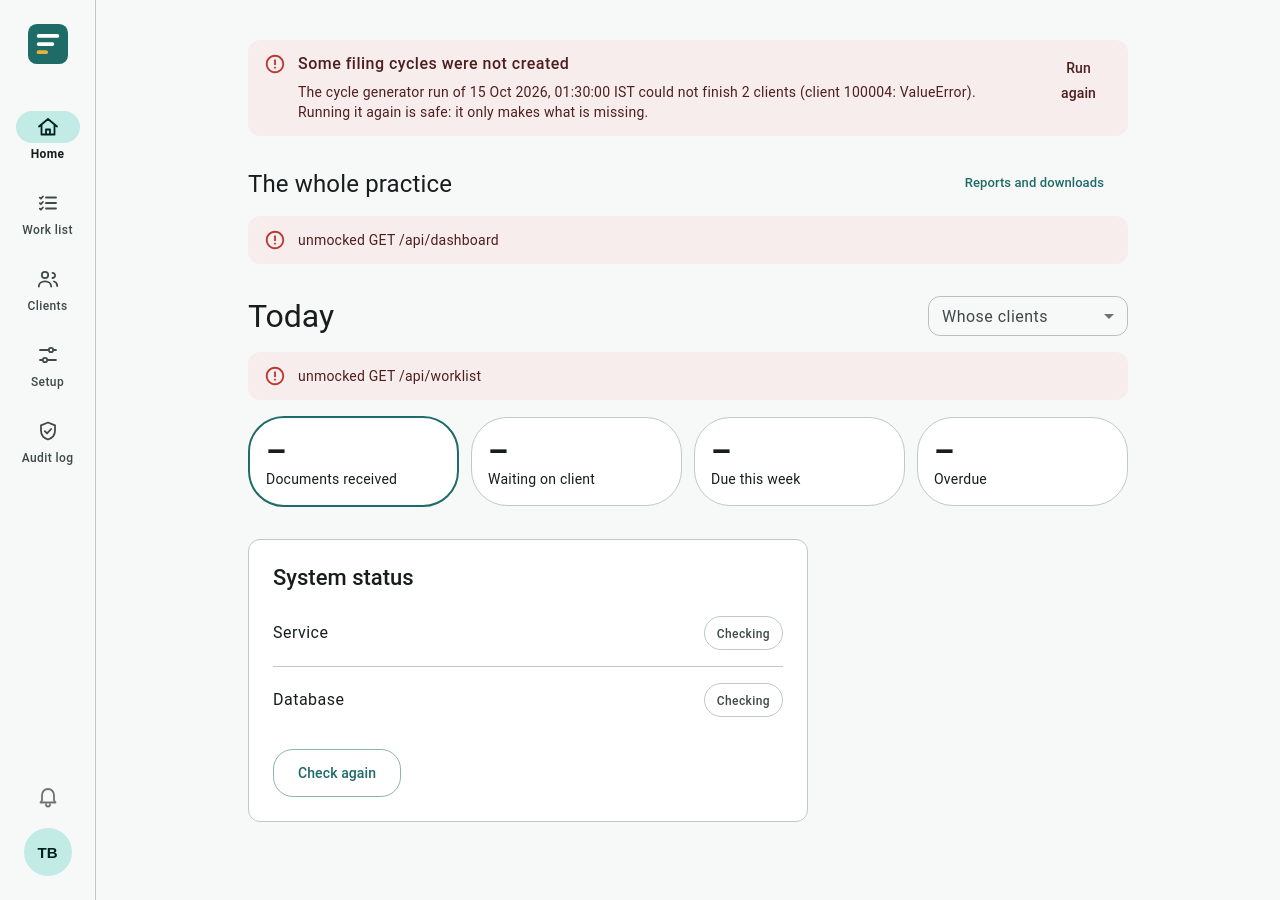
Cycle generator alarm › says so if the run fails again
Click the button "Run again".
click(1078, 80)  # box [1037,50,1120,111]
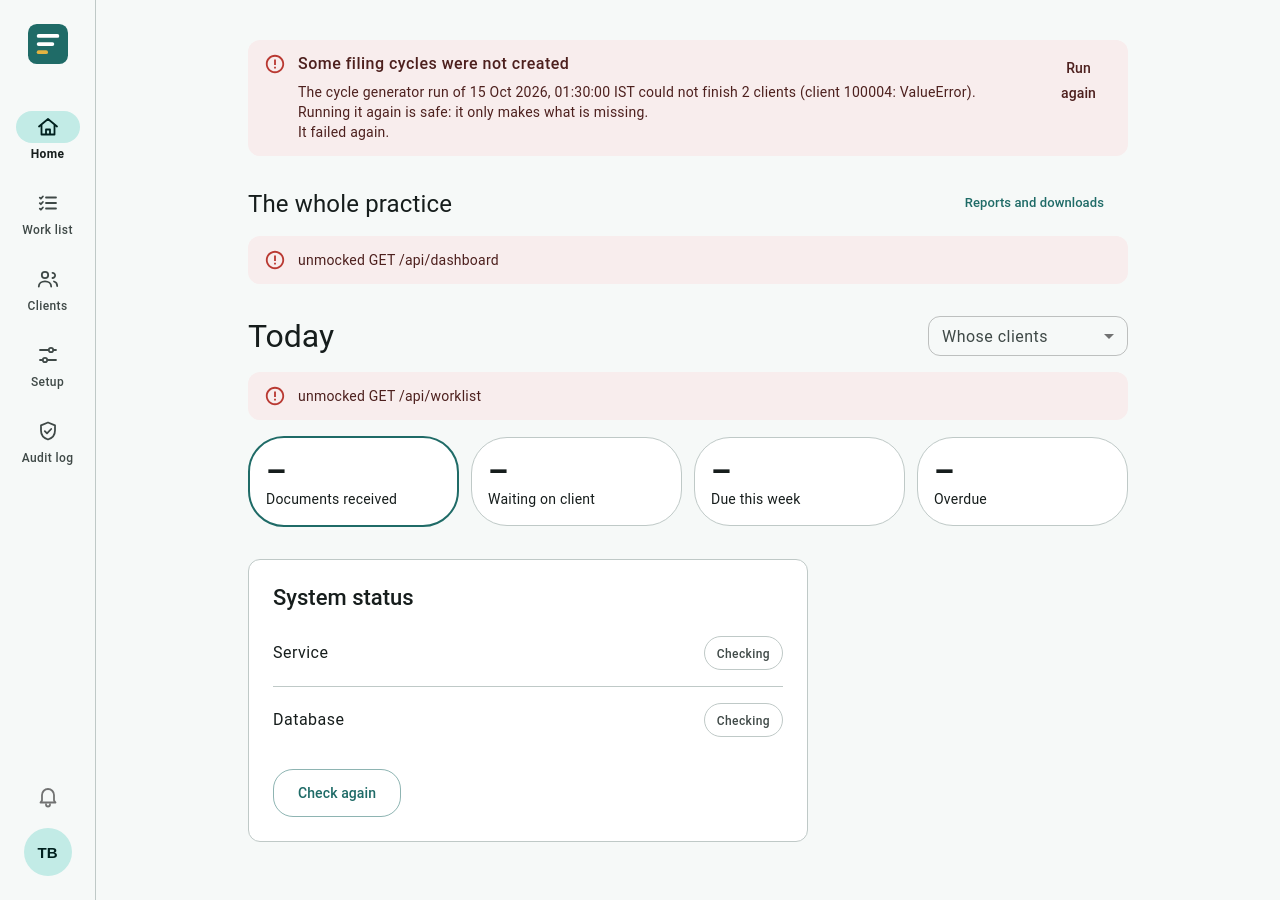
Now the text "It failed again." is shown, box [298,124,390,140]
